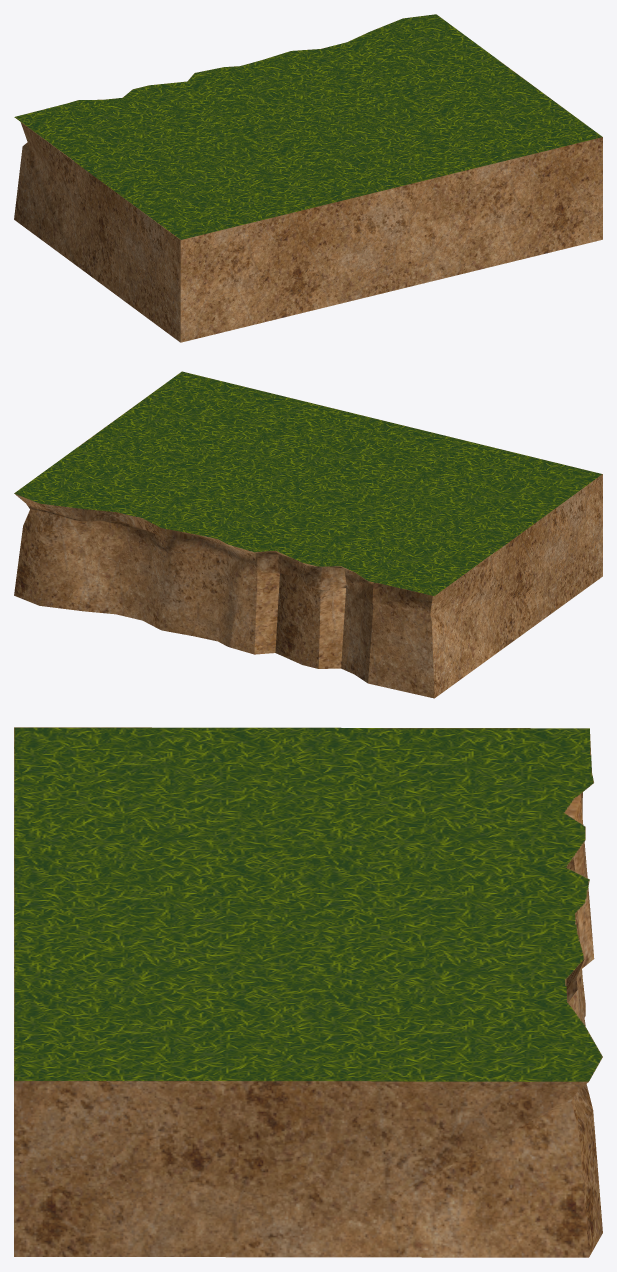
The model's file is Knight-TEX-Ground2.fbx.
3 renders of one model, top to bottom at view 1: azimuth 30°, elevation 25°; view 2: azimuth 150°, elevation 25°; view 3: azimuth 270°, elevation 25°, orthographic. The views are drawn at different scales.
Parts seen in each view (by area): view 1: polySurface233; view 2: polySurface233; view 3: polySurface233.
Boxes of the visible parts, x1,y1,x2,y2 form: polySurface233: [14, 14, 602, 342]; polySurface233: [14, 371, 602, 698]; polySurface233: [14, 727, 602, 1257].
Bounding box in the file's own units: 73.68 × 17.06 × 51.73.
Materials: 1 (1 with a texture image).
